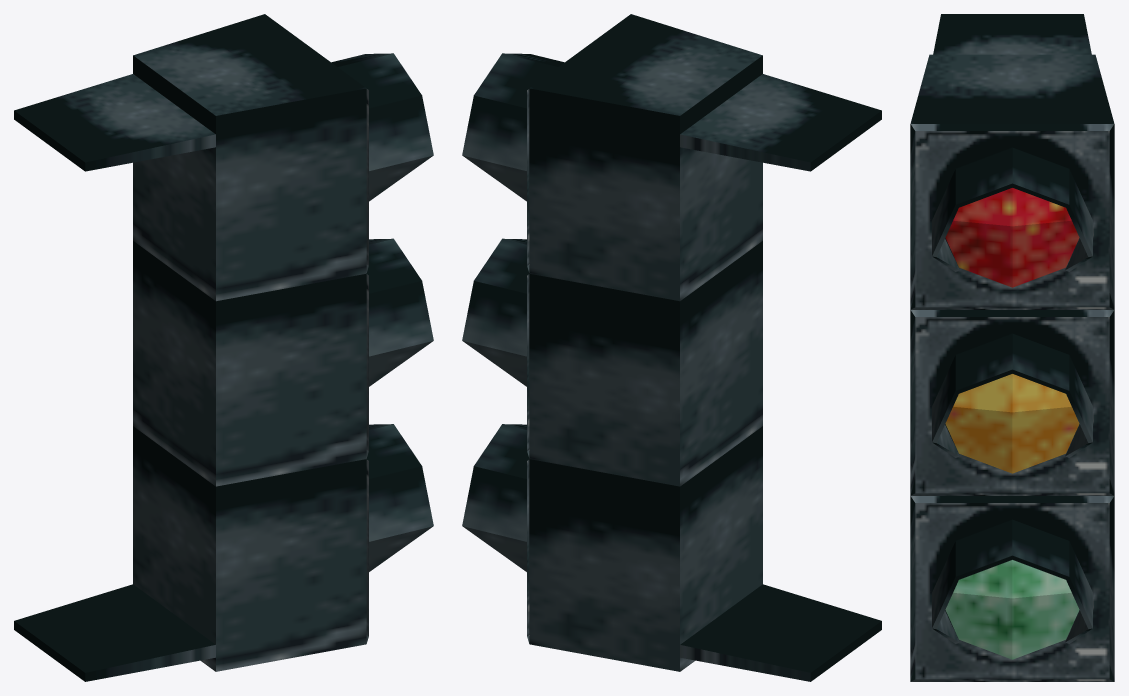
File: light.fbx
3 views of the same model, side by side, from view 1: azimuth 30°, elevation 25°; view 2: azimuth 150°, elevation 25°; view 3: azimuth 270°, elevation 25° (orthographic).
Parts seen in each view (by area): view 1: light; view 2: light; view 3: light.
Part boxes in pixels (x1,y1,x2,y2): light: (14,14,433,681); light: (462,14,881,681); light: (910,14,1114,681).
Size of the model in its own units: 72.72 by 112 by 37.19.
Materials: 1 (1 with a texture image).
